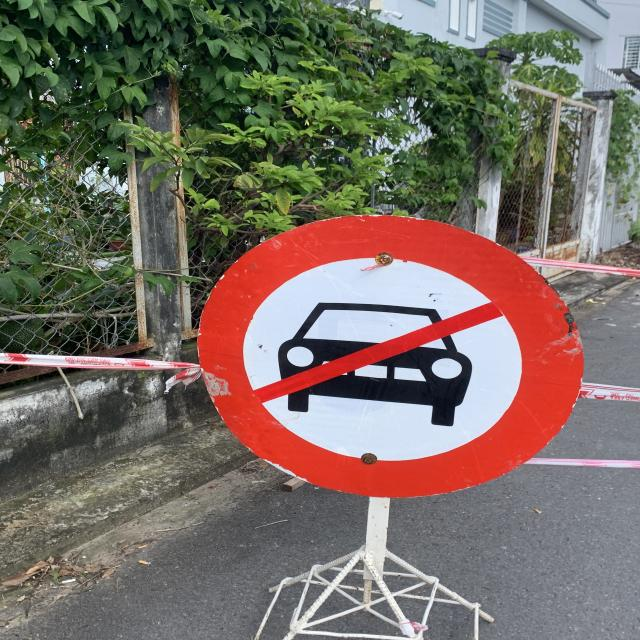Cam_O_To: (195, 213, 582, 498)
